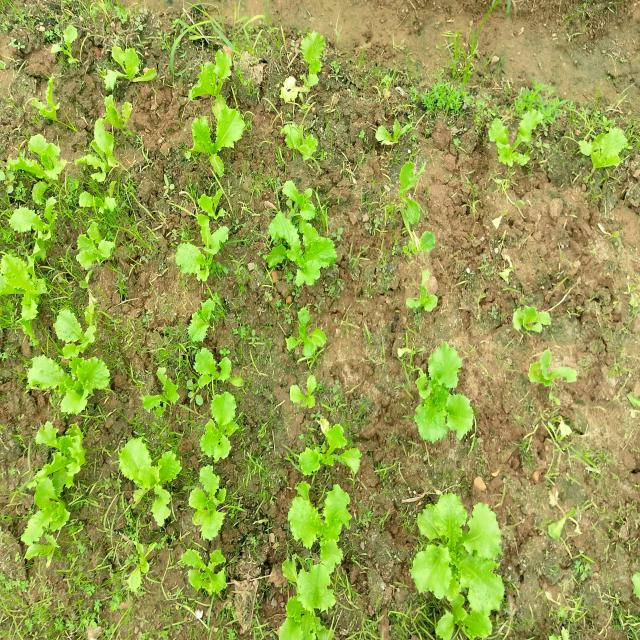Lettuce: (411, 502, 524, 640), (402, 337, 487, 456), (261, 179, 345, 293), (272, 556, 350, 640), (114, 425, 179, 524), (168, 113, 252, 186), (176, 312, 256, 388), (17, 471, 82, 564), (284, 483, 358, 557), (100, 37, 162, 125), (31, 354, 114, 414), (178, 195, 232, 286), (293, 418, 366, 485), (481, 107, 548, 176), (276, 39, 342, 108), (2, 231, 47, 324), (82, 115, 125, 212), (182, 460, 238, 534), (196, 393, 256, 462), (569, 120, 640, 177), (68, 212, 123, 285), (176, 51, 238, 115), (53, 284, 105, 355), (27, 416, 95, 468), (520, 345, 580, 401), (272, 115, 342, 163), (280, 310, 334, 368), (12, 135, 68, 190), (383, 162, 435, 220), (182, 546, 237, 598), (42, 14, 86, 64), (16, 82, 70, 122), (401, 270, 444, 318), (509, 301, 560, 340), (290, 372, 331, 414), (374, 120, 419, 152)
